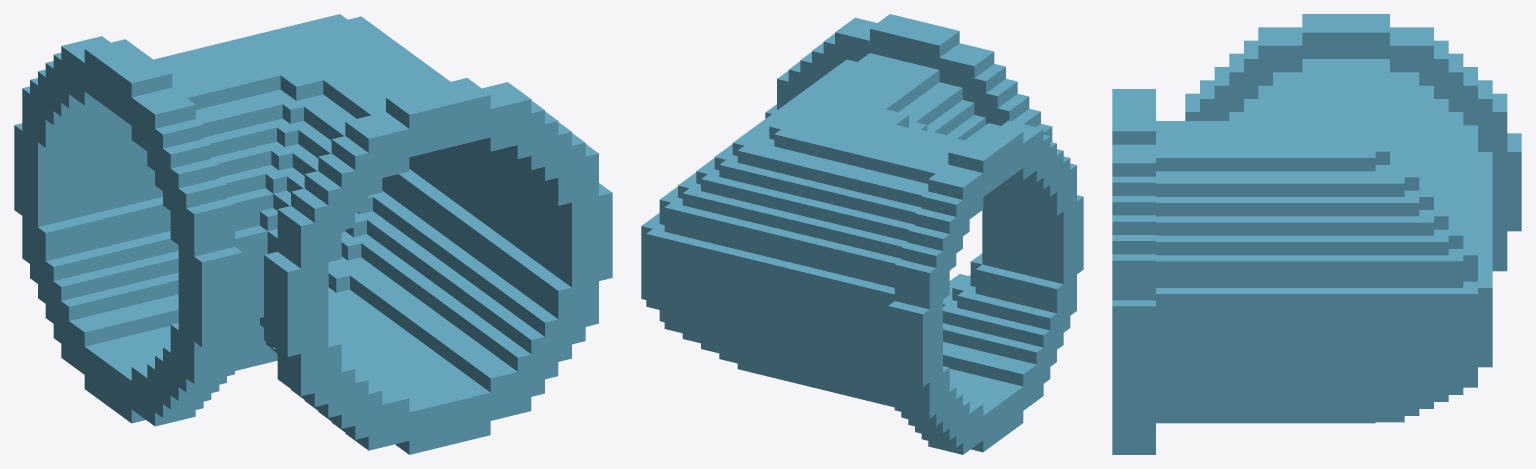
Rendered from PipeTurn.obj.
3 renders of one model, left to right at view 1: azimuth 30°, elevation 25°; view 2: azimuth 150°, elevation 25°; view 3: azimuth 270°, elevation 25°, orthographic. The views are drawn at different scales.
Bounding box in the file's own units: 28 × 24 × 28.
Materials: 1 (1 with a texture image).
